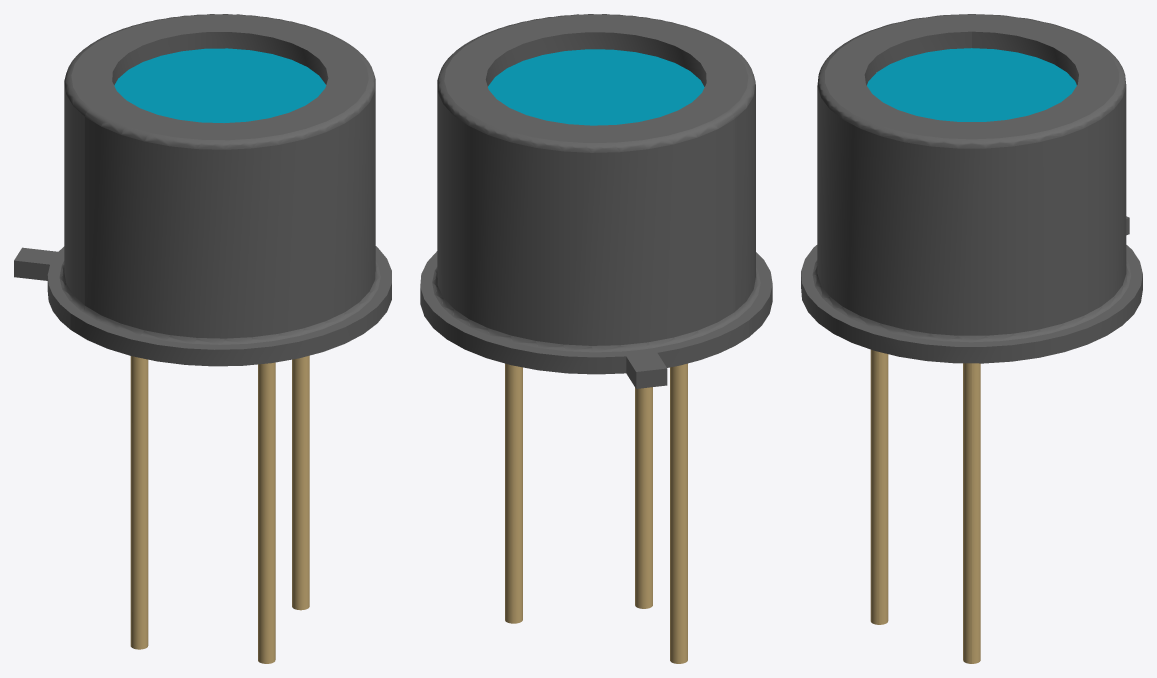
Rendered from kc-to-39-3_window.glb.
3 views of the same model, side by side, from view 1: azimuth 30°, elevation 25°; view 2: azimuth 150°, elevation 25°; view 3: azimuth 270°, elevation 25° (orthographic). The views are drawn at different scales.
Visible parts, largest first — view 1: 0.16666666666666666_0.16666666666666666_0.16666666666666666_, 0.75_0.5_0.25_0.9, 0_0.3333333333333333_0.5_0; view 2: 0.16666666666666666_0.16666666666666666_0.16666666666666666_, 0.75_0.5_0.25_0.9, 0_0.3333333333333333_0.5_0; view 3: 0.16666666666666666_0.16666666666666666_0.16666666666666666_, 0_0.3333333333333333_0.5_0, 0.75_0.5_0.25_0.9.
Part boxes in pixels (x1,y1,x2,y2): 0.16666666666666666_0.16666666666666666_0.16666666666666666_: (14, 14, 391, 366); 0.75_0.5_0.25_0.9: (130, 355, 309, 663); 0_0.3333333333333333_0.5_0: (114, 48, 326, 122); 0.16666666666666666_0.16666666666666666_0.16666666666666666_: (420, 14, 772, 388); 0.75_0.5_0.25_0.9: (505, 363, 687, 663); 0_0.3333333333333333_0.5_0: (488, 49, 704, 125); 0.16666666666666666_0.16666666666666666_0.16666666666666666_: (801, 14, 1142, 363); 0_0.3333333333333333_0.5_0: (867, 48, 1076, 121); 0.75_0.5_0.25_0.9: (870, 349, 980, 663).
Bounding box in the file's own units: 0.9389 × 1.65 × 0.9393.
